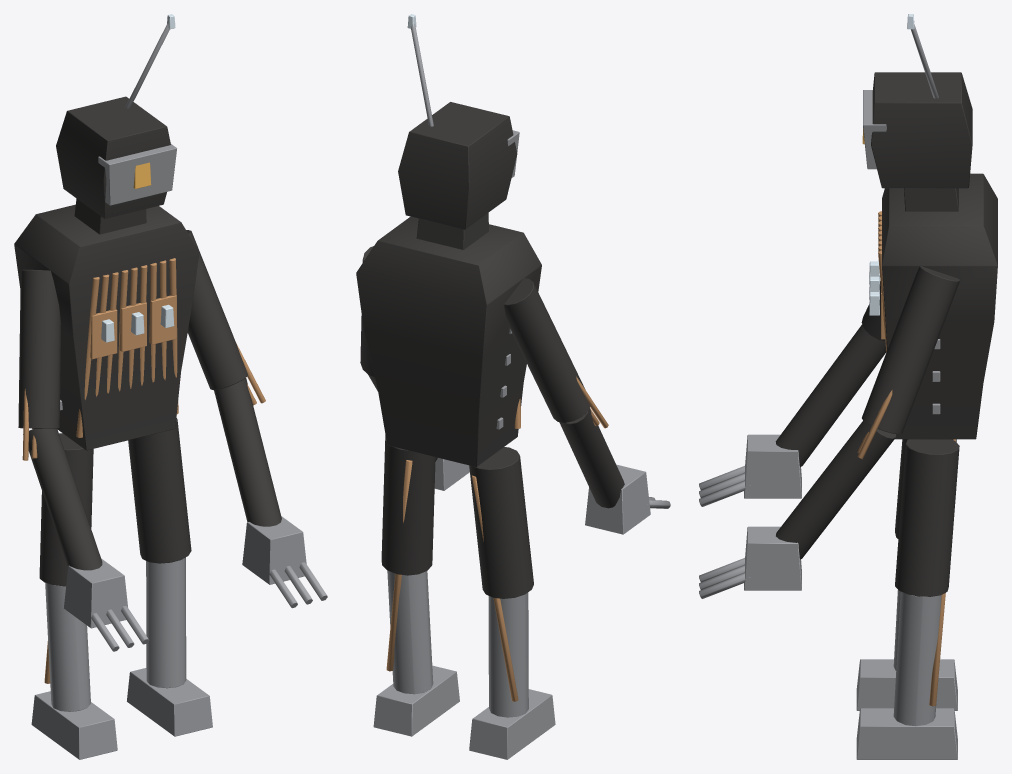
File: MN_spark.fbx
3 renders of one model, left to right at view 1: azimuth 30°, elevation 25°; view 2: azimuth 150°, elevation 25°; view 3: azimuth 270°, elevation 25°, orthographic. The views are drawn at different scales.
Parts seen in each view (by area): view 1: MN_spark; view 2: MN_spark; view 3: MN_spark.
Part boxes in pixels (x1=…): MN_spark: x1=14, y1=14, x2=327, y2=759; MN_spark: x1=356, y1=14, x2=670, y2=759; MN_spark: x1=699, y1=14, x2=997, y2=759.
Bounding box in the file's own units: 0.8143 × 2.24 × 0.8238.
